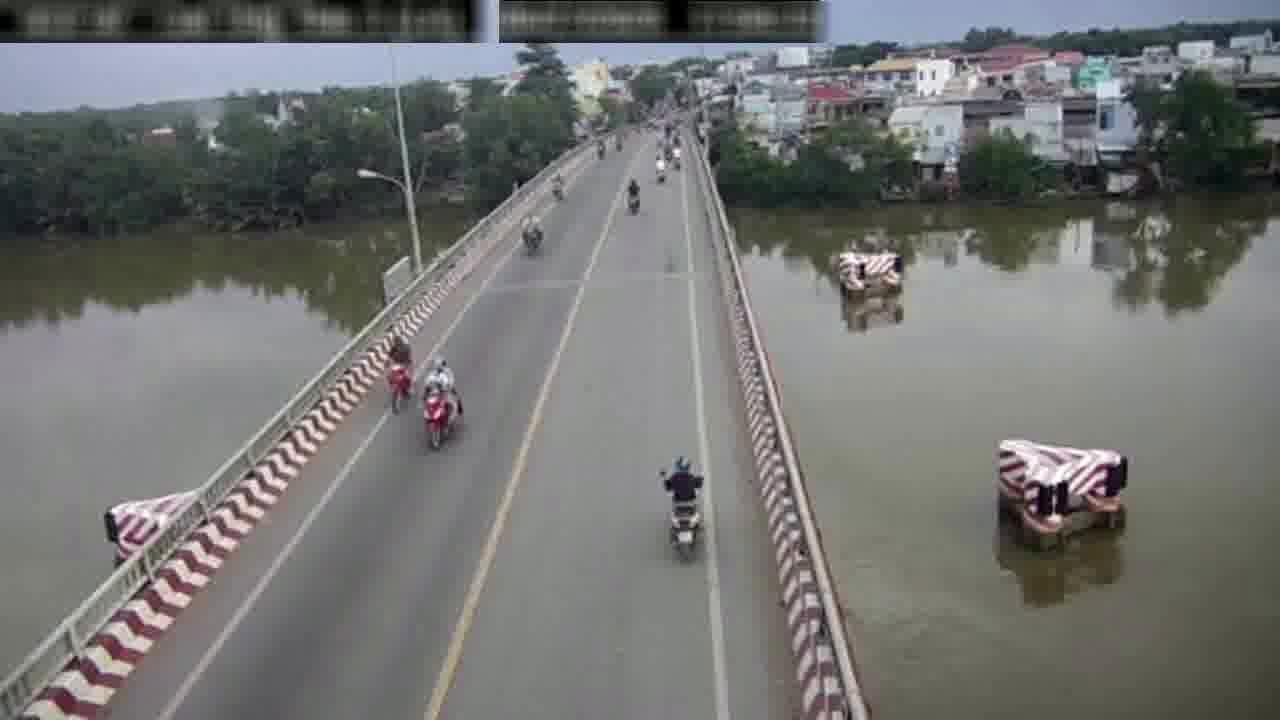motorbike: (663, 451, 705, 566), (421, 351, 464, 454), (386, 336, 410, 413), (518, 205, 544, 258), (625, 174, 639, 217), (653, 151, 667, 186)
